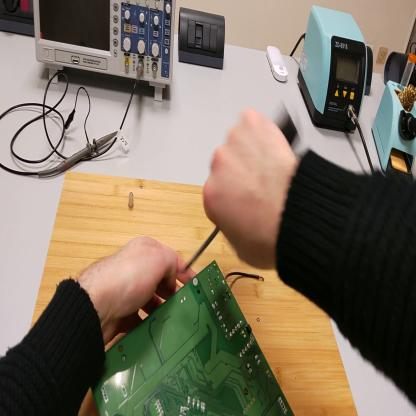hand: (205, 109, 296, 270), (91, 236, 197, 346)
low voltage board: (93, 260, 294, 416)
oscilloscope: (35, 3, 178, 104)
oscilloscope probe tip: (39, 129, 119, 181)
screwdriver-: (184, 115, 302, 275)
socket: (2, 2, 35, 40), (385, 50, 415, 89), (365, 45, 374, 95)
welder base: (373, 54, 416, 177)
welder station: (301, 7, 369, 135)
working area: (34, 172, 359, 413)
